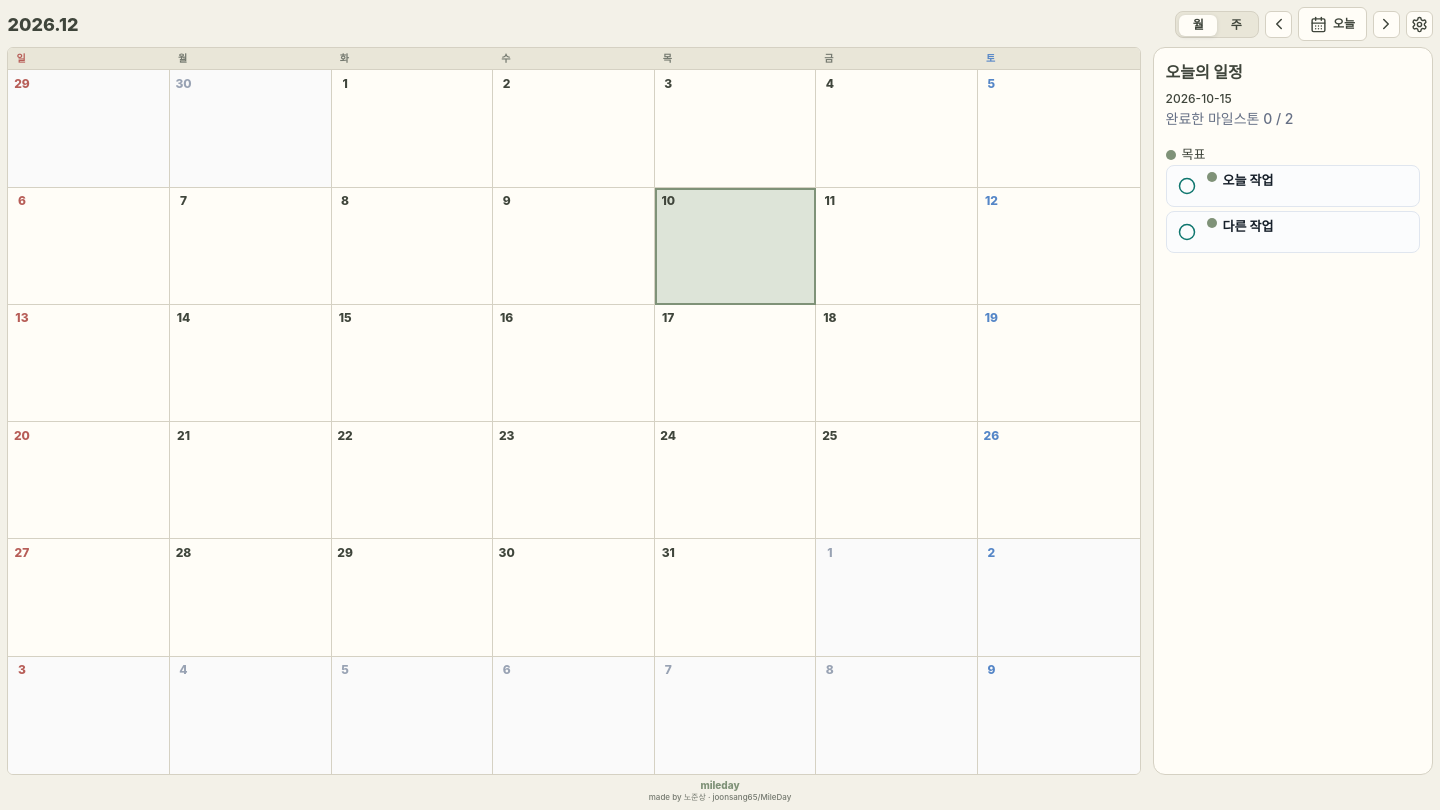
Test: today side panel integration › optimistically toggles, blocks duplicate clicks, and keeps other milestones usable
Click the button named "오늘 작업": (1187, 186) [1173,172,1201,200]
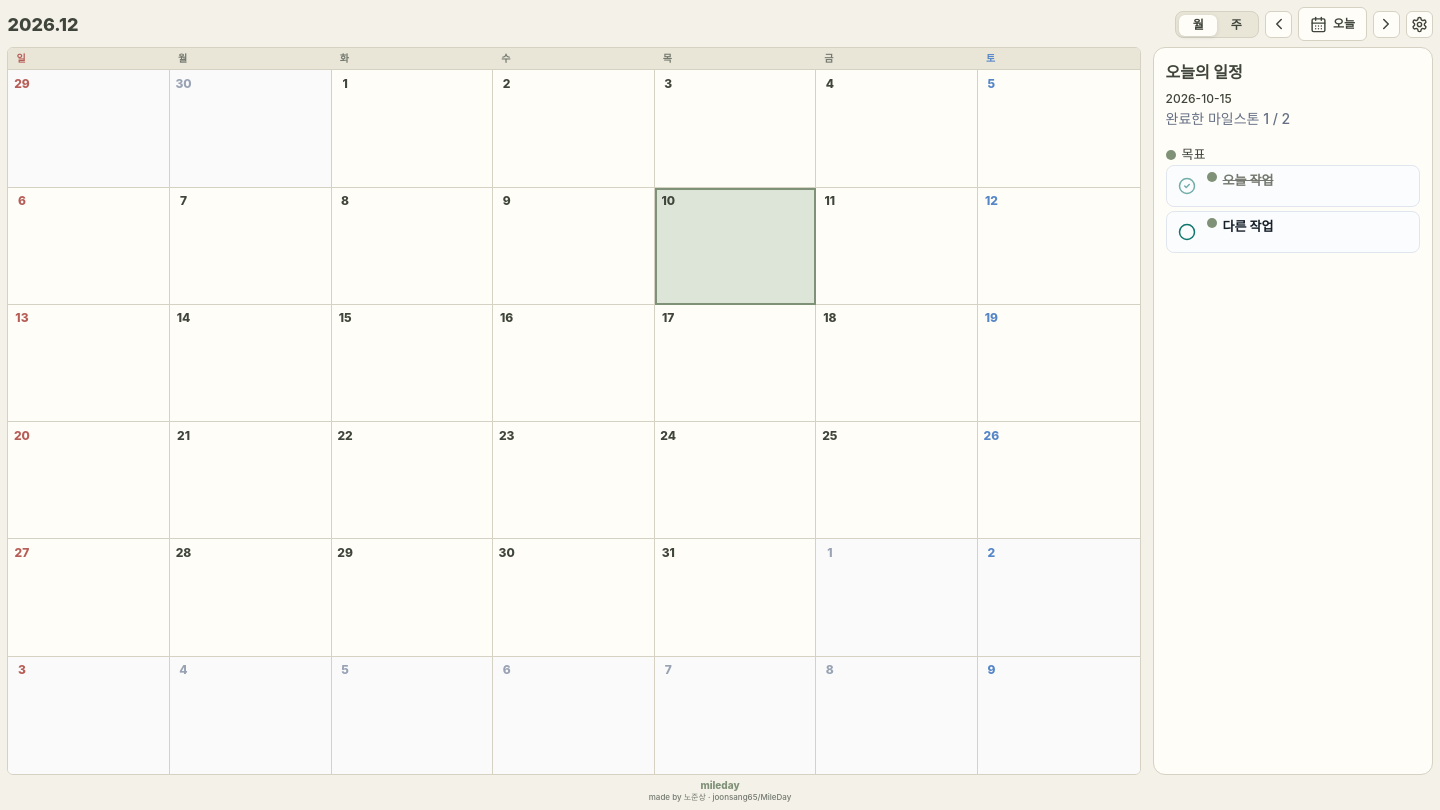
Result: the button named "오늘 작업" is disabled
Click the button named "오늘 작업": (1187, 186) [1173,172,1201,200]
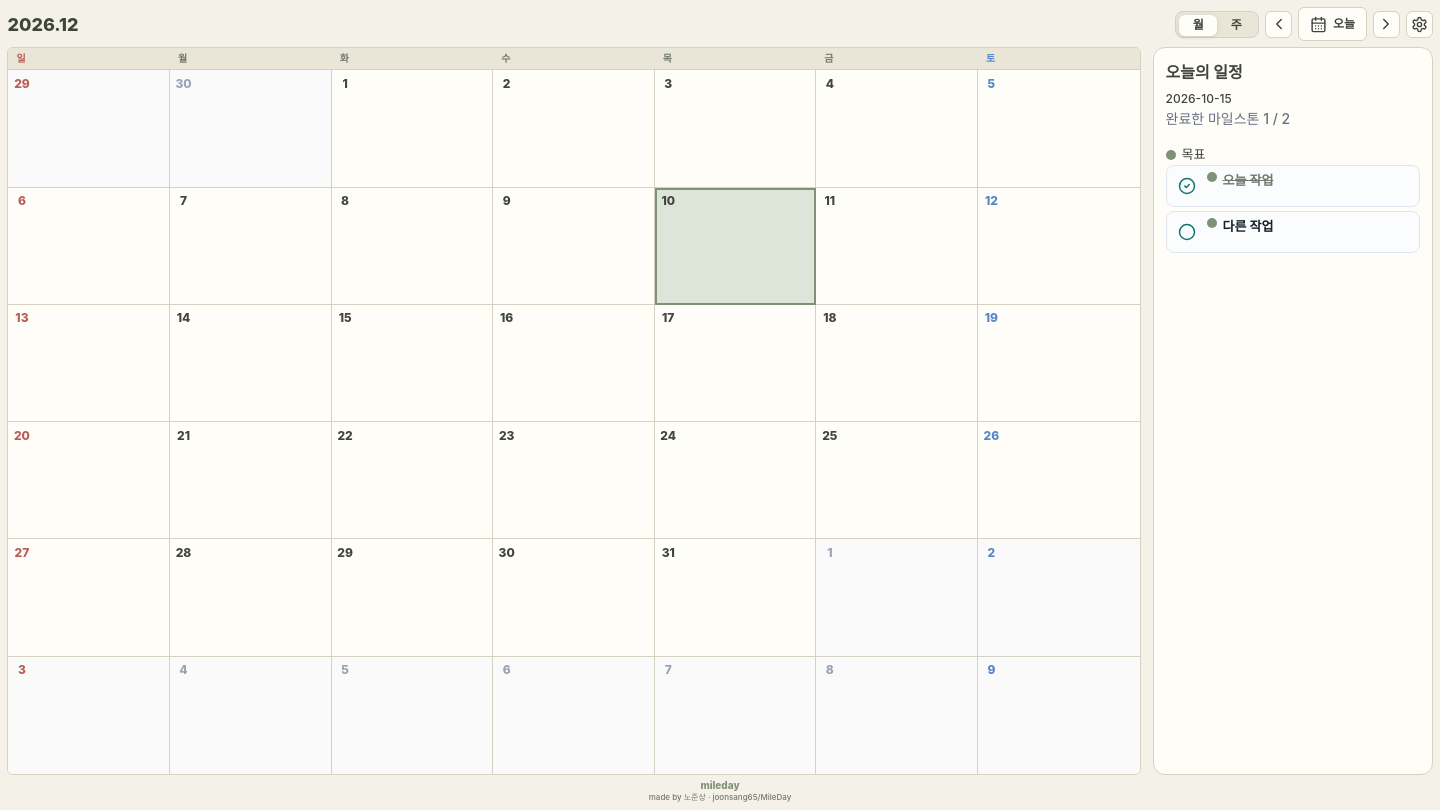
Expected: the button named "다른 작업" is enabled, [1173,218,1201,246]
Result: the button named "오늘 작업" is enabled at [1173,172,1201,200]
